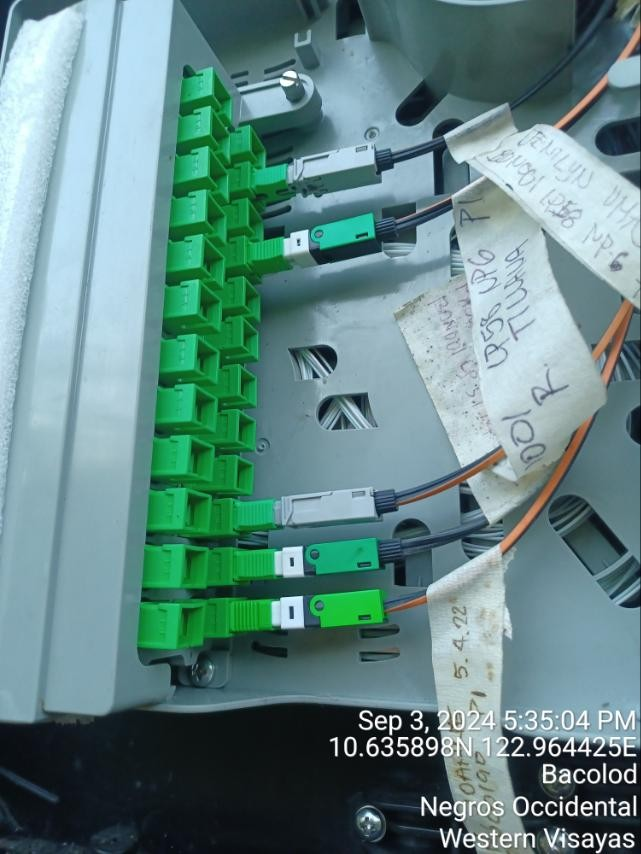no dust cap: (175, 604, 208, 651), (180, 544, 210, 588), (186, 436, 214, 482), (197, 281, 222, 332), (183, 488, 211, 533), (193, 383, 218, 432), (201, 236, 225, 287), (194, 335, 219, 382), (209, 106, 230, 161), (206, 190, 227, 245), (208, 149, 228, 204), (212, 68, 231, 123), (246, 199, 265, 244), (248, 126, 266, 171), (242, 316, 259, 361), (243, 277, 260, 322), (236, 456, 255, 494), (237, 412, 256, 450), (240, 364, 258, 404)
occupied: (244, 209, 403, 276), (248, 137, 407, 204), (230, 535, 405, 584), (229, 587, 391, 636), (239, 485, 401, 533)
